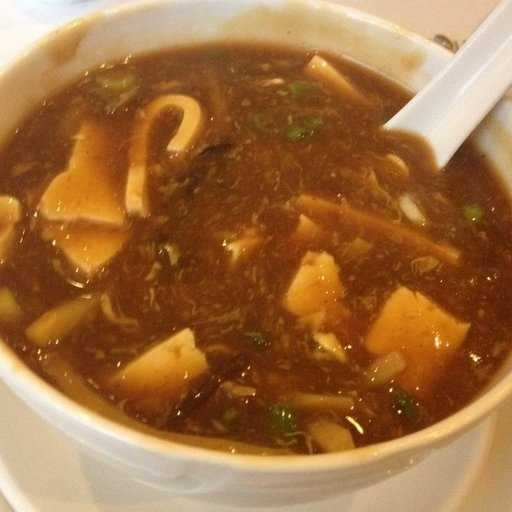soup: (1, 68, 487, 440)
